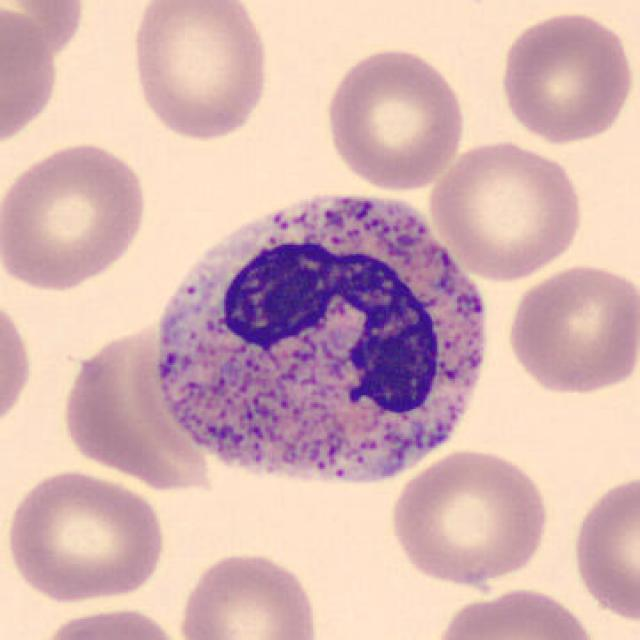Neutrophil: (135, 174, 507, 500)
RBC: (60, 330, 221, 499), (384, 444, 553, 589), (423, 136, 587, 282), (0, 138, 151, 294), (2, 466, 169, 606), (320, 42, 469, 192), (124, 0, 274, 143), (496, 7, 636, 146), (503, 261, 638, 398), (174, 546, 323, 640), (567, 467, 638, 626), (426, 583, 602, 640), (0, 2, 64, 153), (0, 0, 87, 71), (32, 603, 187, 640), (0, 286, 36, 440)
